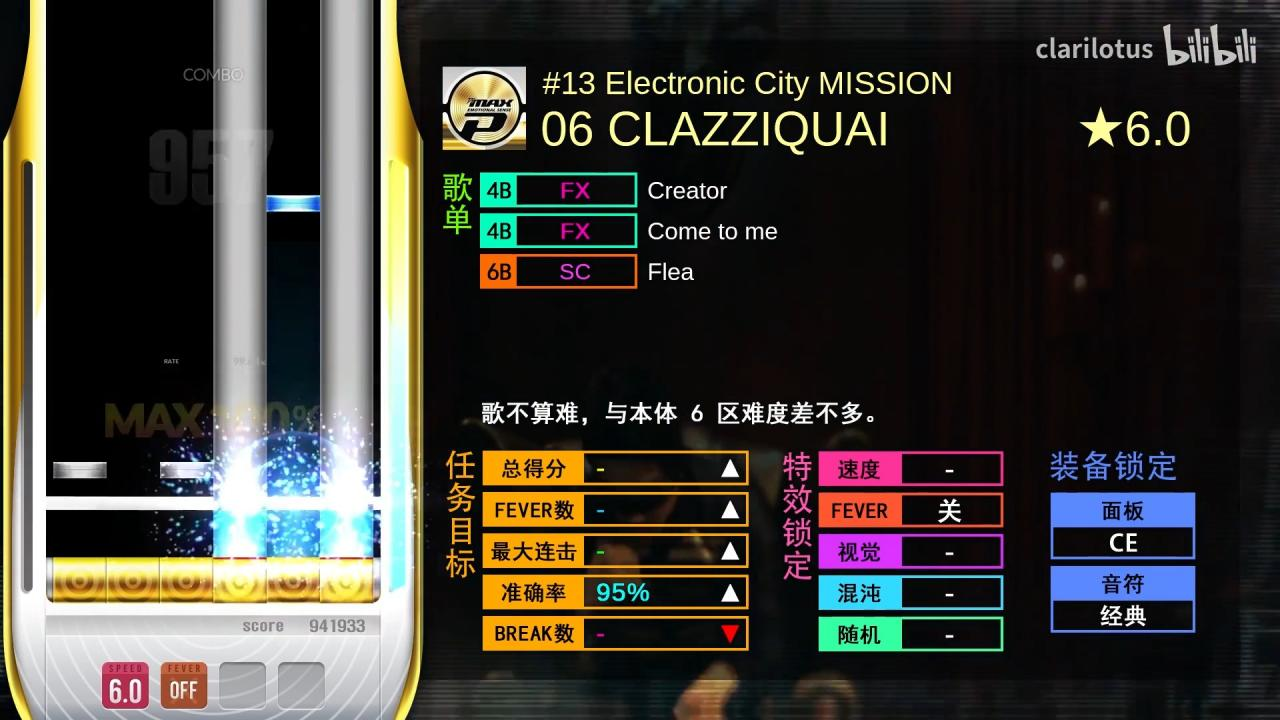note: (267, 194, 321, 212), (54, 461, 108, 479), (160, 461, 213, 478)
